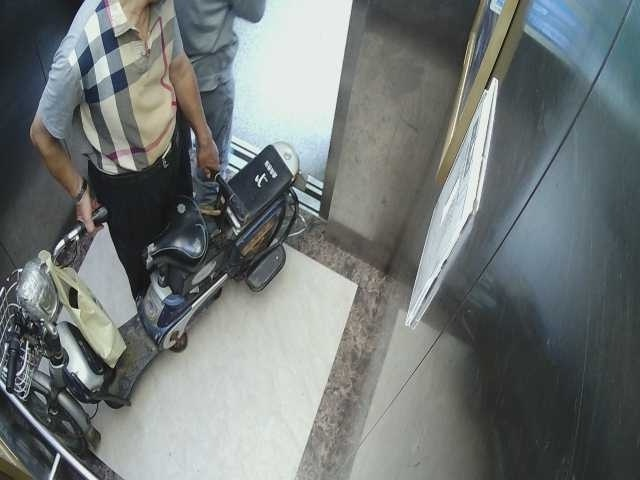electromobile: (3, 138, 326, 426)
